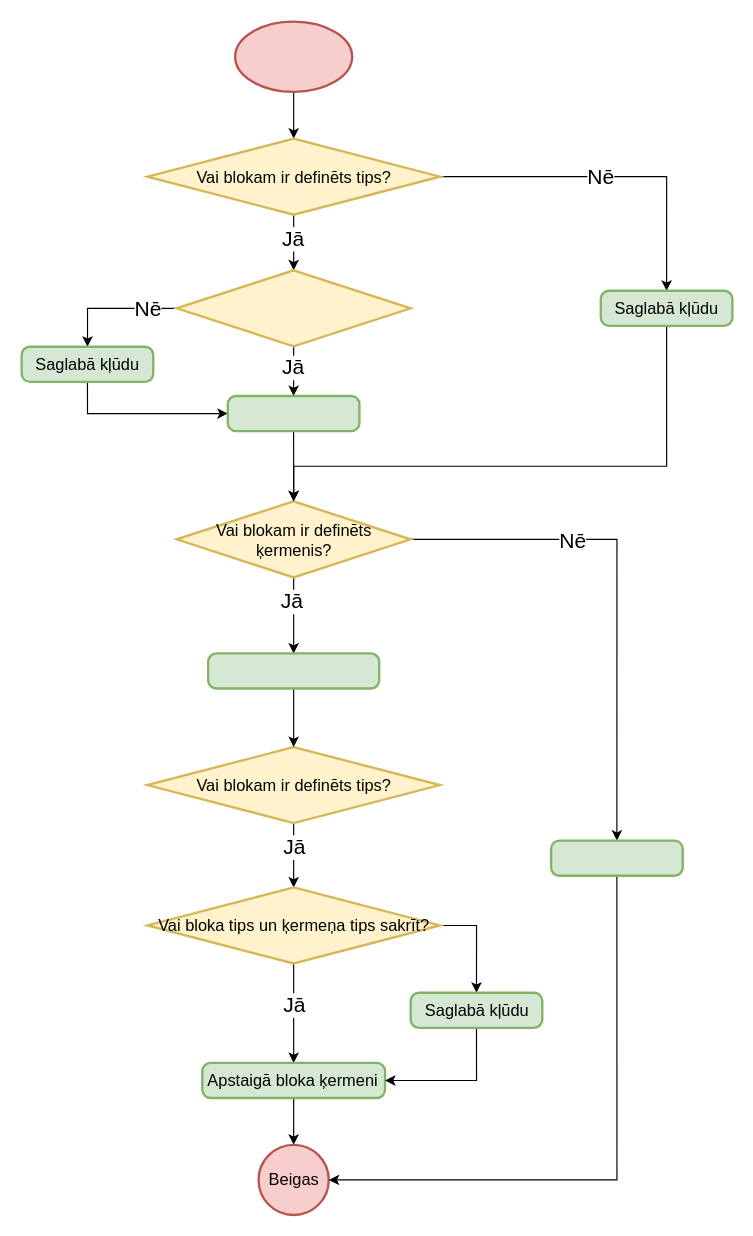
Some shapes in this 753 by 1236 pixel diagram are drawn without their labels. The centre of each missing label's shape, as x and y in pixels:
"Fiksē bloka tipu" goes at pixel 293 413.
"Fiksējam ķermeņa tipu" goes at pixel 293 670.
"Sahlabā kļūdu" goes at pixel 616 857.
"Sākums" goes at pixel 293 56.
"Vai ir dots pareizs bloka tips?" goes at pixel 293 308.
